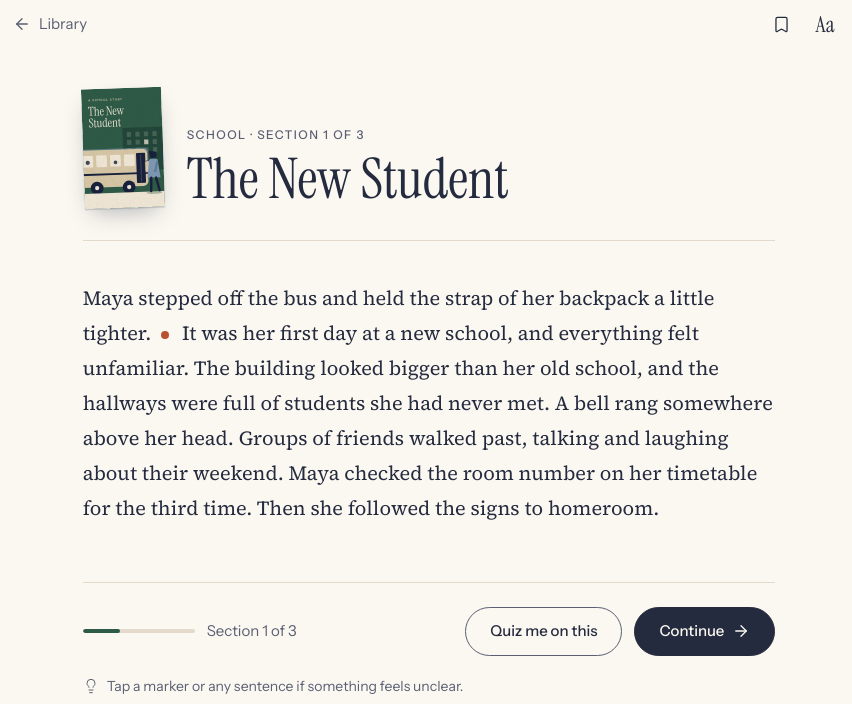
Scenario: reader › opens the card directly under the sentence; the paragraph continues below it
Click the button "Continue": (705, 631) [634, 607, 775, 656]
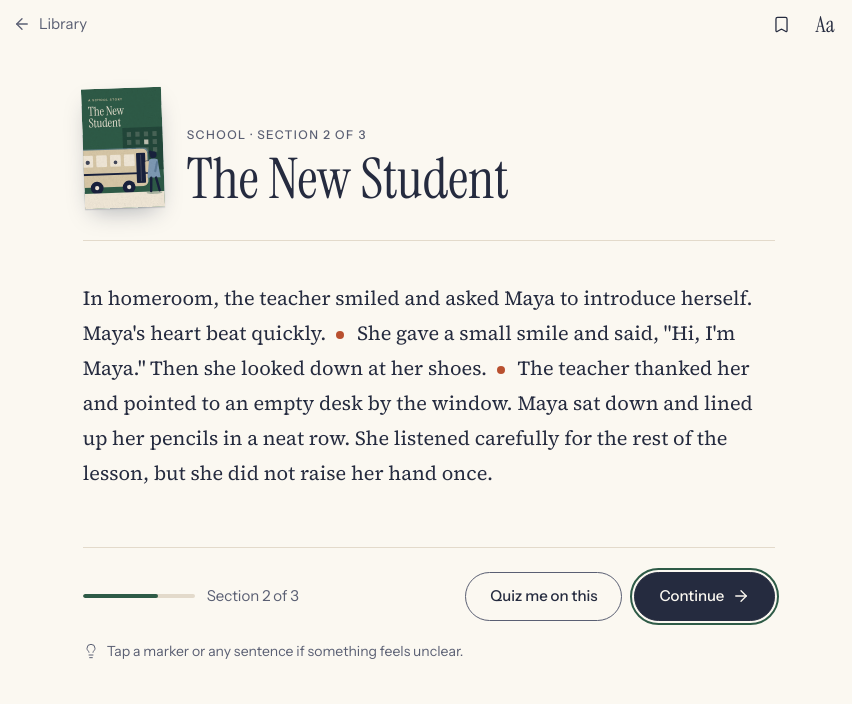
Click the 1st button named "Explain this sentence": (340, 335) [328, 323, 352, 347]
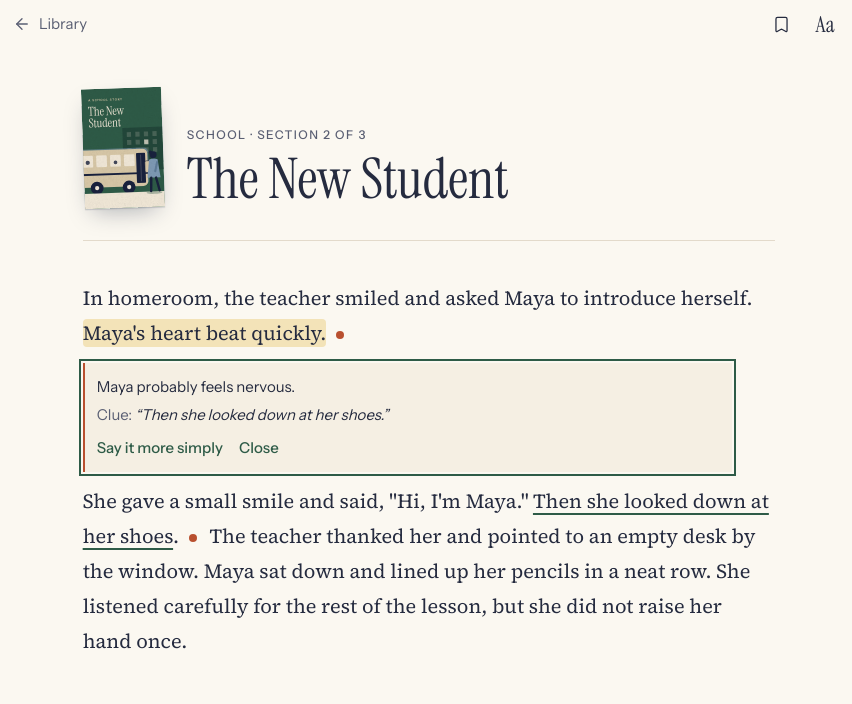
Check: the element named "Explanation" shows "Maya probably feels nervous.", box [97, 377, 295, 396]
